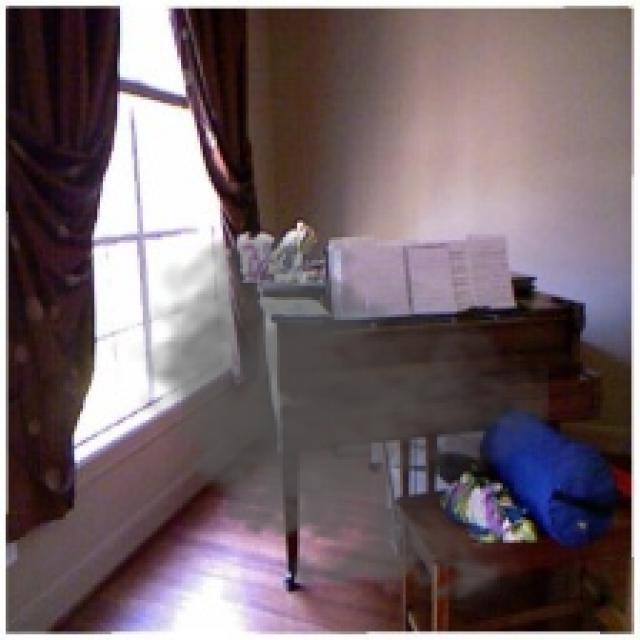Smoke: (126, 222, 548, 614)
